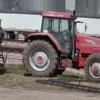Tractor: (21, 1, 100, 79)
